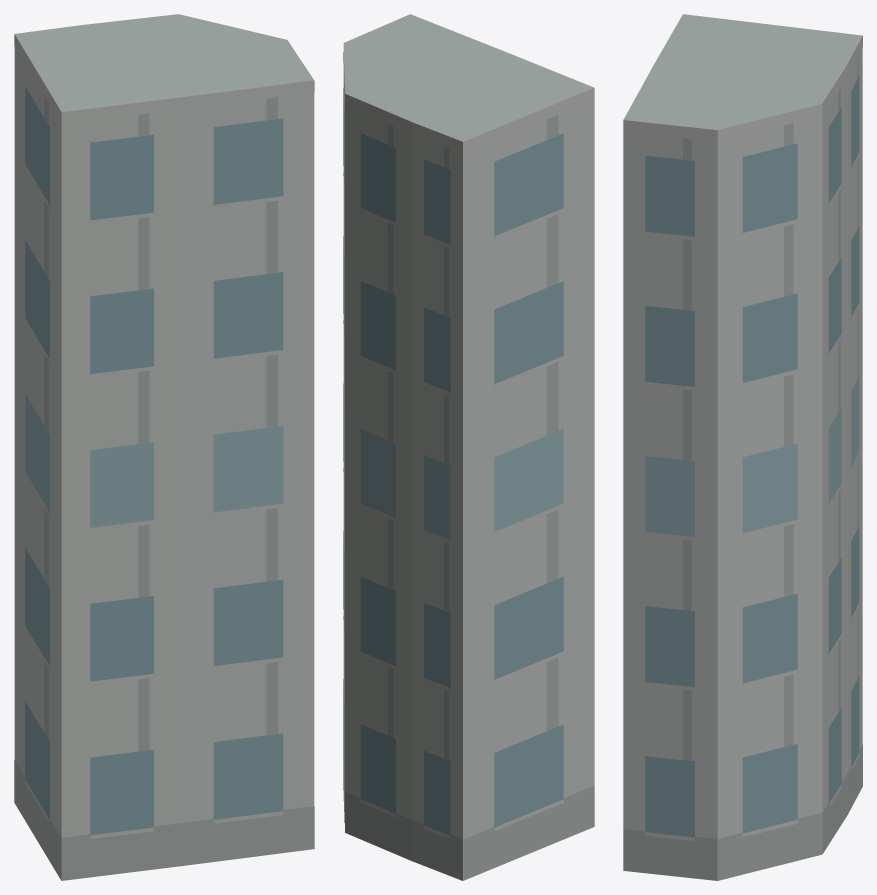
File: survey-upis-32573948.glb
3 renders of one model, left to right at view 1: azimuth 30°, elevation 25°; view 2: azimuth 150°, elevation 25°; view 3: azimuth 270°, elevation 25°, orthographic. The views are drawn at different scales.
Parts seen in each view (by area): view 1: survey-upis-32573948.tmp; view 2: survey-upis-32573948.tmp; view 3: survey-upis-32573948.tmp.
Boxes of the visible parts, x1,y1,x2,y2 form: survey-upis-32573948.tmp: (14,14,314,880); survey-upis-32573948.tmp: (343,14,594,880); survey-upis-32573948.tmp: (623,14,862,880).
Bounding box in the file's own units: 5.07 × 15.25 × 4.42.
